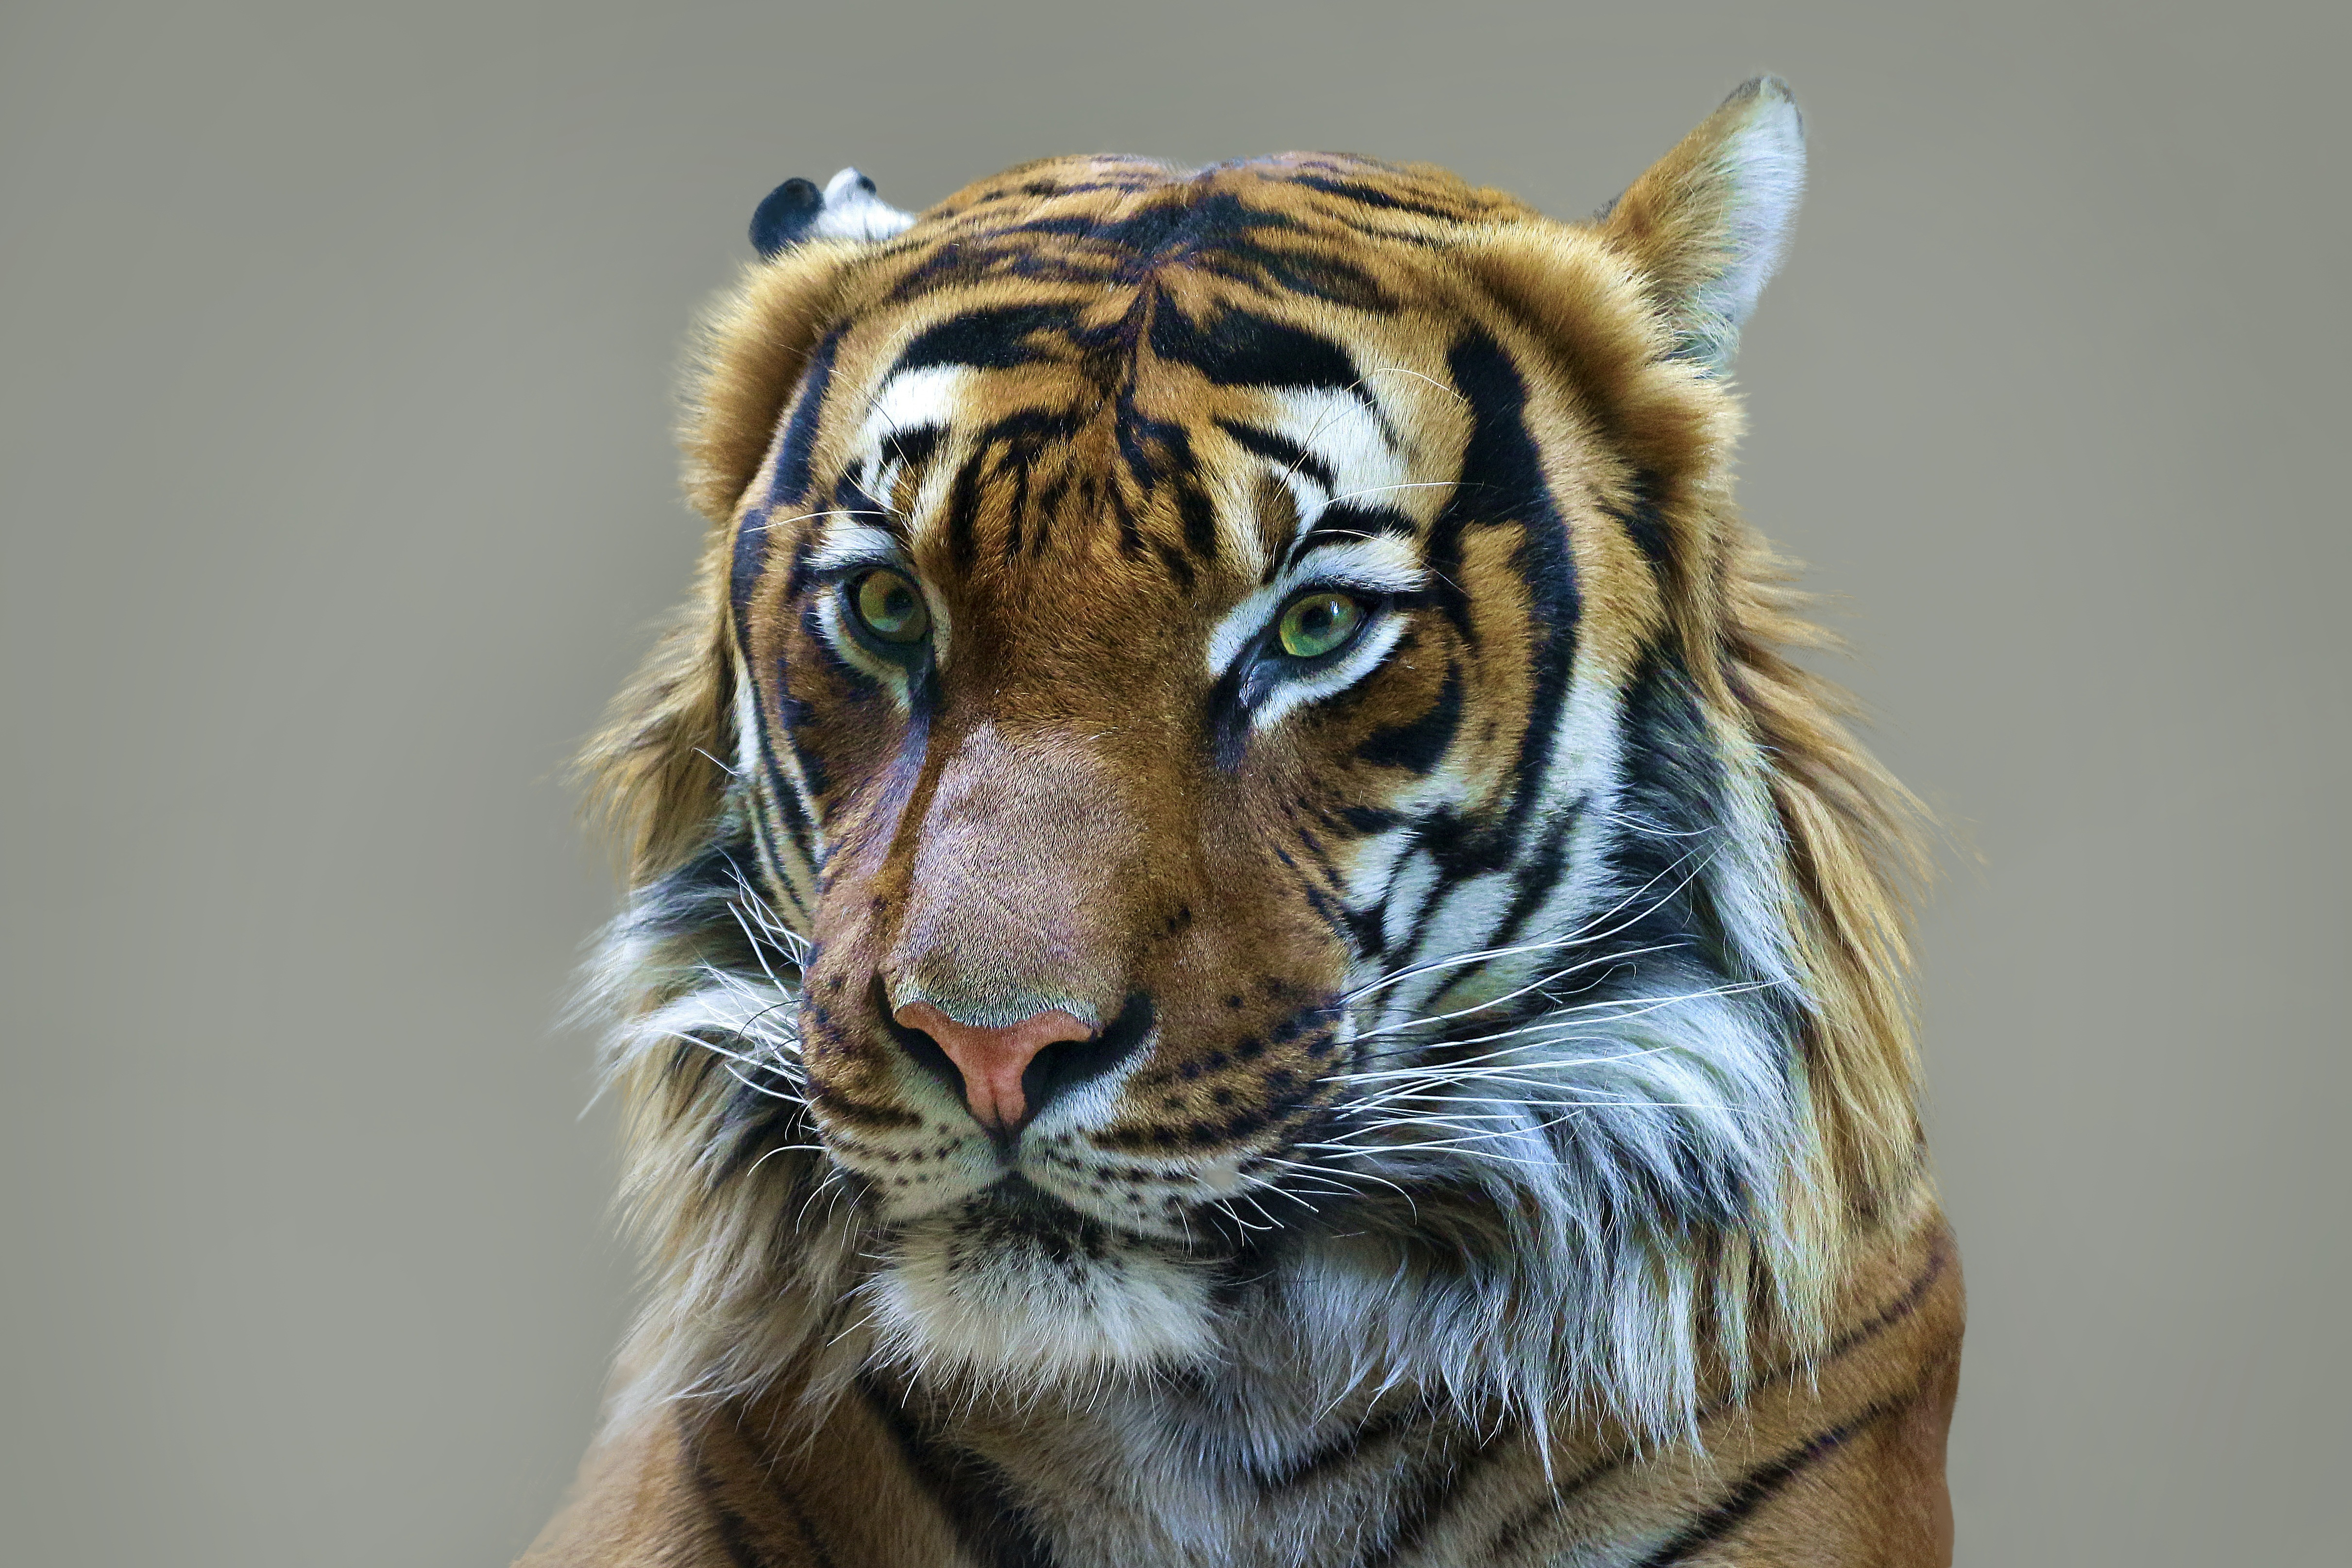tiger: (486, 140, 2149, 1503)
